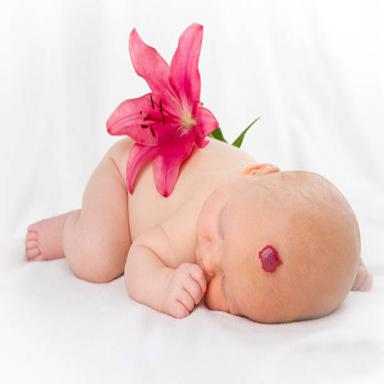Hemangiome: (259, 245, 282, 272)
